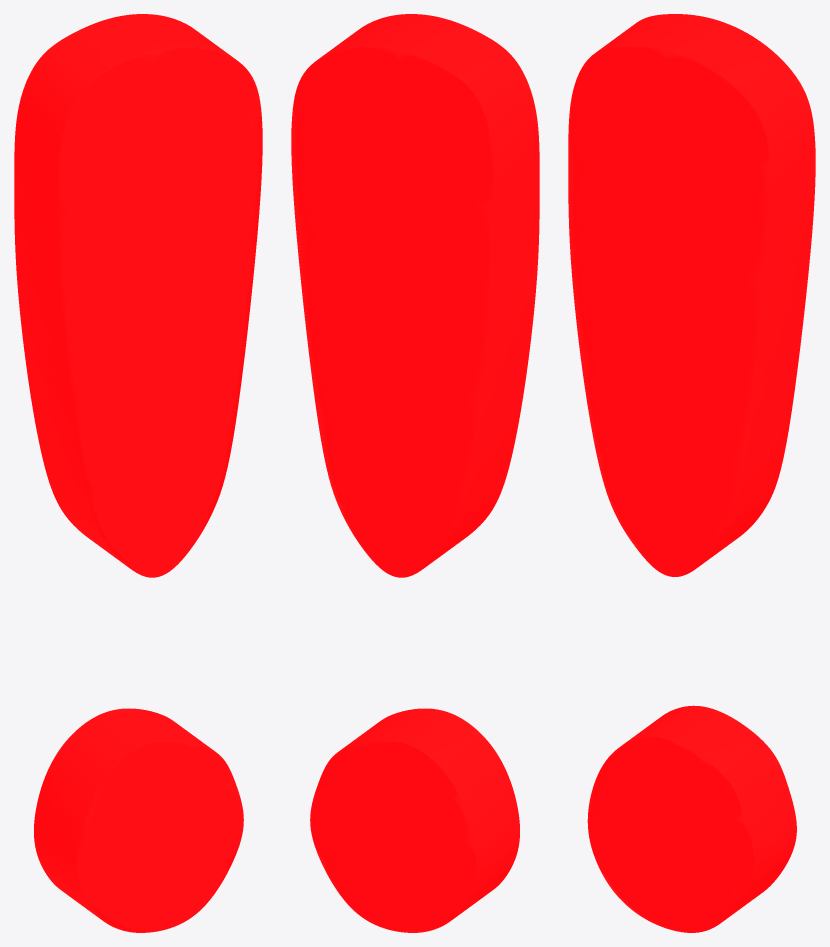
File: exclamation.glb
3 views of the same model, side by side, from view 1: azimuth 30°, elevation 25°; view 2: azimuth 150°, elevation 25°; view 3: azimuth 330°, elevation 25° (orthographic).
Parts seen in each view (by area): view 1: Object_2, Object_3; view 2: Object_2, Object_3; view 3: Object_2, Object_3.
Part boxes in pixels (bbox=[...]): Object_2: bbox=[14, 14, 262, 577]; Object_3: bbox=[34, 708, 243, 932]; Object_2: bbox=[291, 14, 539, 577]; Object_3: bbox=[310, 708, 519, 932]; Object_2: bbox=[568, 14, 815, 576]; Object_3: bbox=[587, 705, 796, 932].
Size of the model in its own units: 0.2904 by 1.19 by 0.1043.
